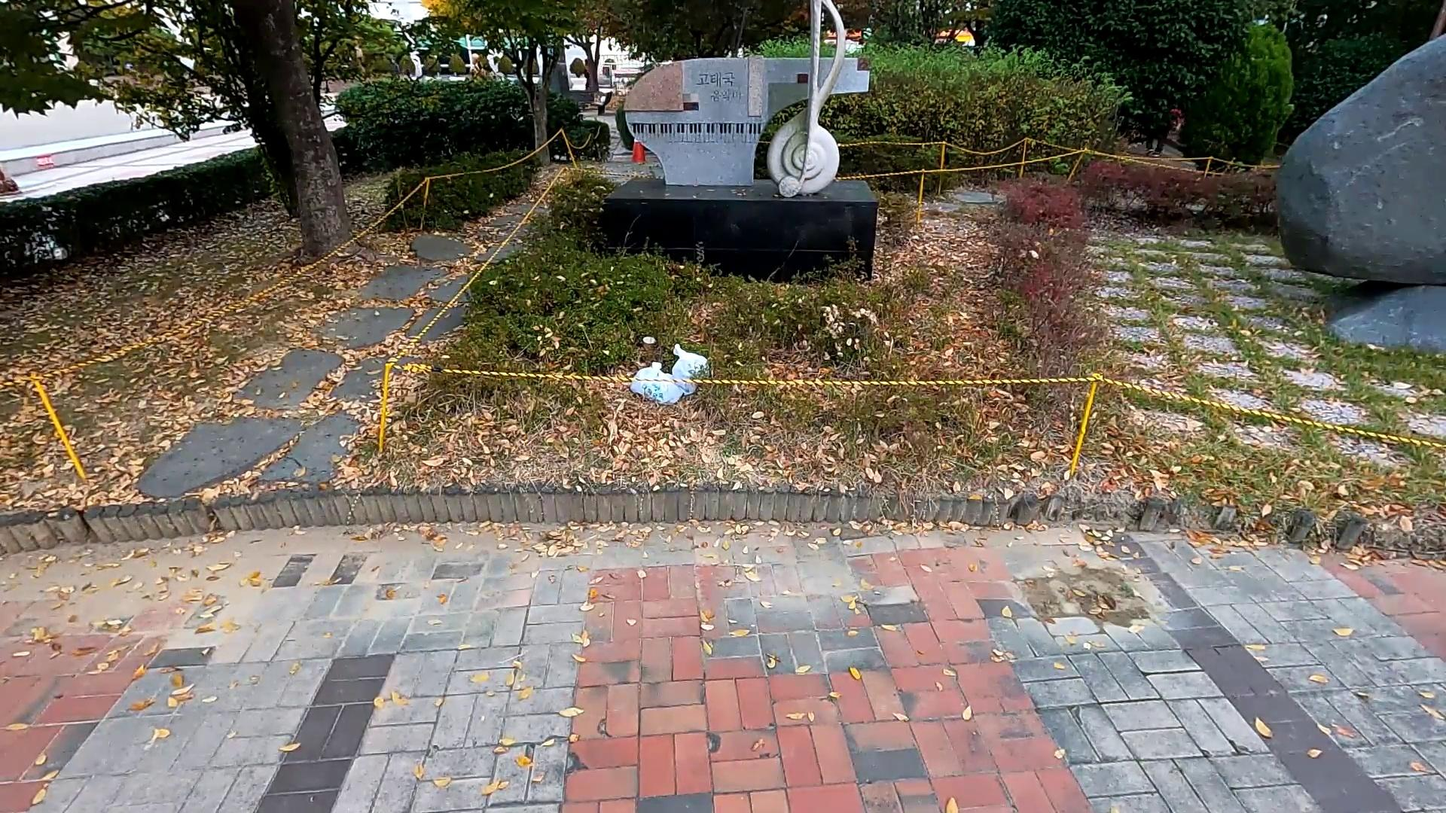trash: (632, 362, 685, 407), (670, 341, 709, 394)
